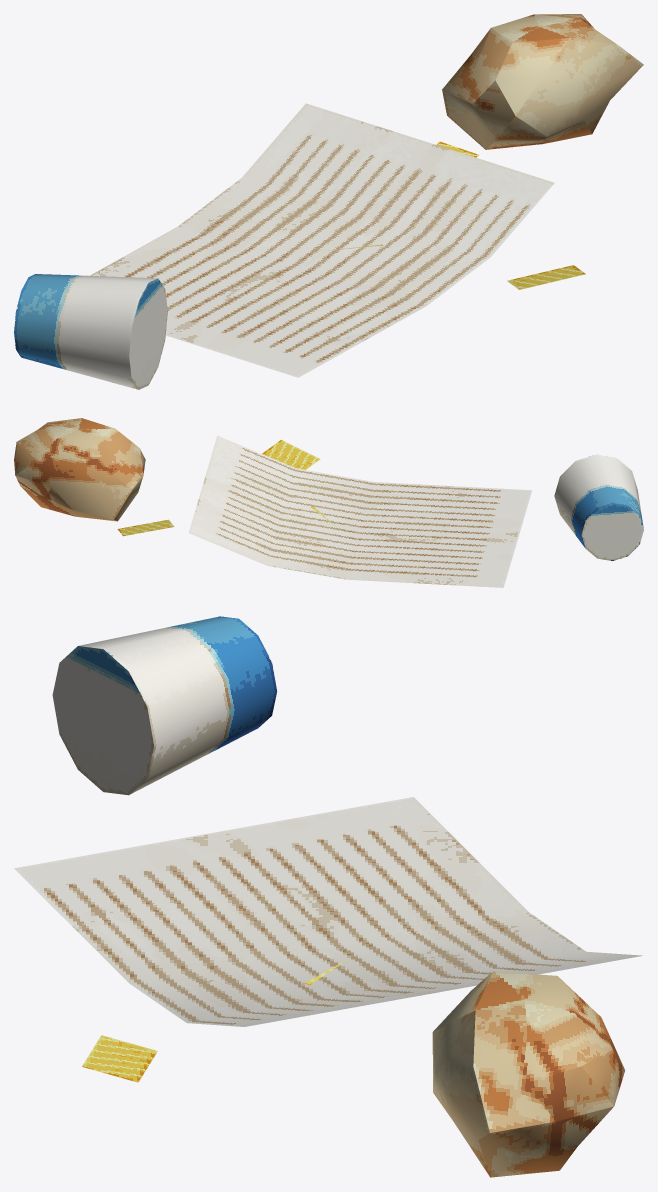
Rendered from park_litter_own.glb.
3 views of the same model, one above another, from view 1: azimuth 30°, elevation 25°; view 2: azimuth 150°, elevation 25°; view 3: azimuth 270°, elevation 25° (orthographic). The views are drawn at different scales.
Parts seen in each view (by area): view 1: mesh; view 2: mesh; view 3: mesh.
Part boxes in pixels (x1,y1,x2,y2): mesh: (14, 14, 643, 389); mesh: (14, 418, 643, 587); mesh: (14, 616, 642, 1177).
Bounding box in the file's own units: 0.6458 × 0.1 × 0.3454.
1 material, 1 textured.
